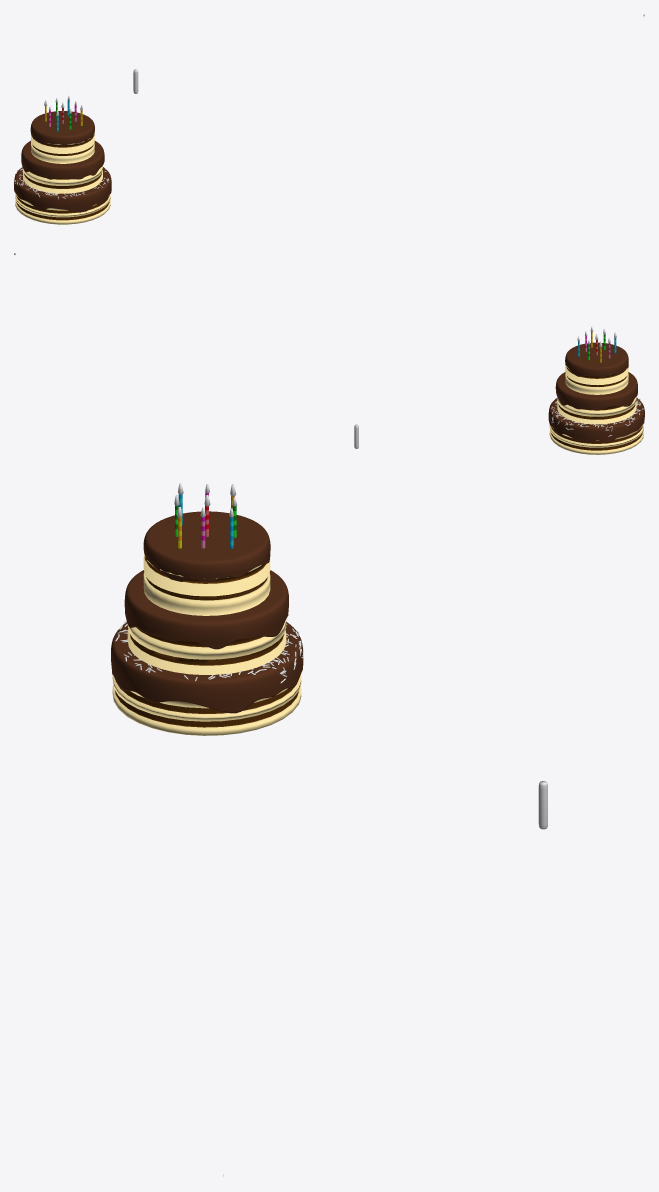
File: uploads_files_3407001_Birthday+Cake.fbx
3 renders of one model, top to bottom at view 1: azimuth 30°, elevation 25°; view 2: azimuth 150°, elevation 25°; view 3: azimuth 270°, elevation 25°, orthographic. The views are drawn at different scales.
Parts seen in each view (by area): view 1: Cylinder, Cylinder.001, Cylinder.003, Cylinder.002; view 2: Cylinder, Cylinder.001, Cylinder.003, Cylinder.002; view 3: Cylinder, Cylinder.001, Cylinder.003, Cylinder.002.
Boxes of the visible parts, <box> form: Cylinder: <box>15,133,110,224</box>; Cylinder.001: <box>14,167,111,212</box>; Cylinder.003: <box>30,111,94,144</box>; Cylinder.002: <box>21,141,104,179</box>; Cylinder: <box>549,365,643,454</box>; Cylinder.001: <box>548,398,644,443</box>; Cylinder.003: <box>565,342,628,377</box>; Cylinder.002: <box>555,372,637,410</box>; Cylinder: <box>112,553,301,735</box>; Cylinder.001: <box>111,622,303,713</box>; Cylinder.003: <box>143,511,270,582</box>; Cylinder.002: <box>124,570,288,649</box>.
Bounding box in the file's own units: 1517 × 237 × 463.
